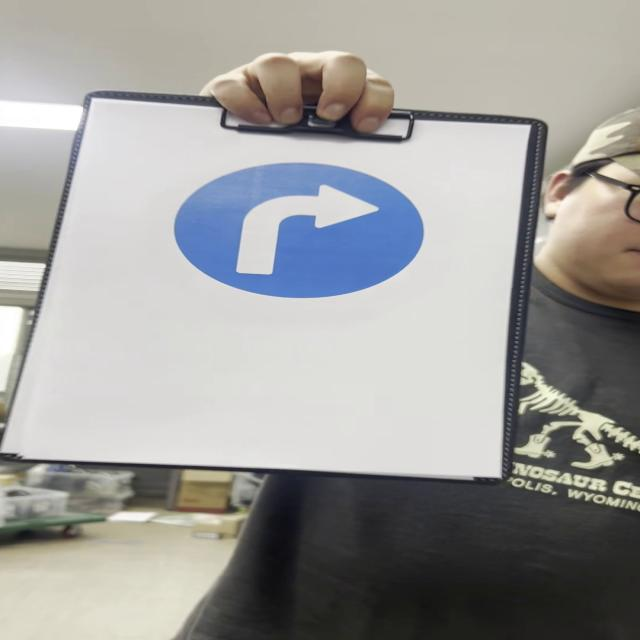right: (173, 164, 422, 301)
